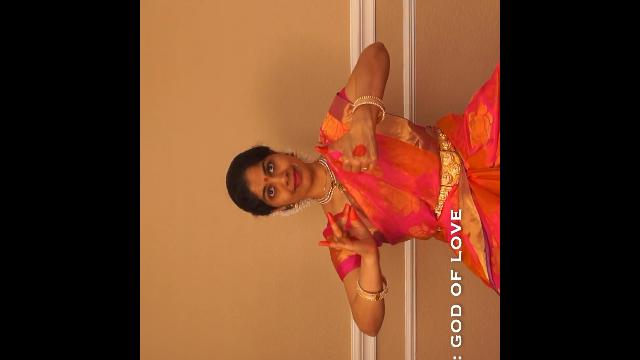shikhar: (314, 94, 406, 178)
